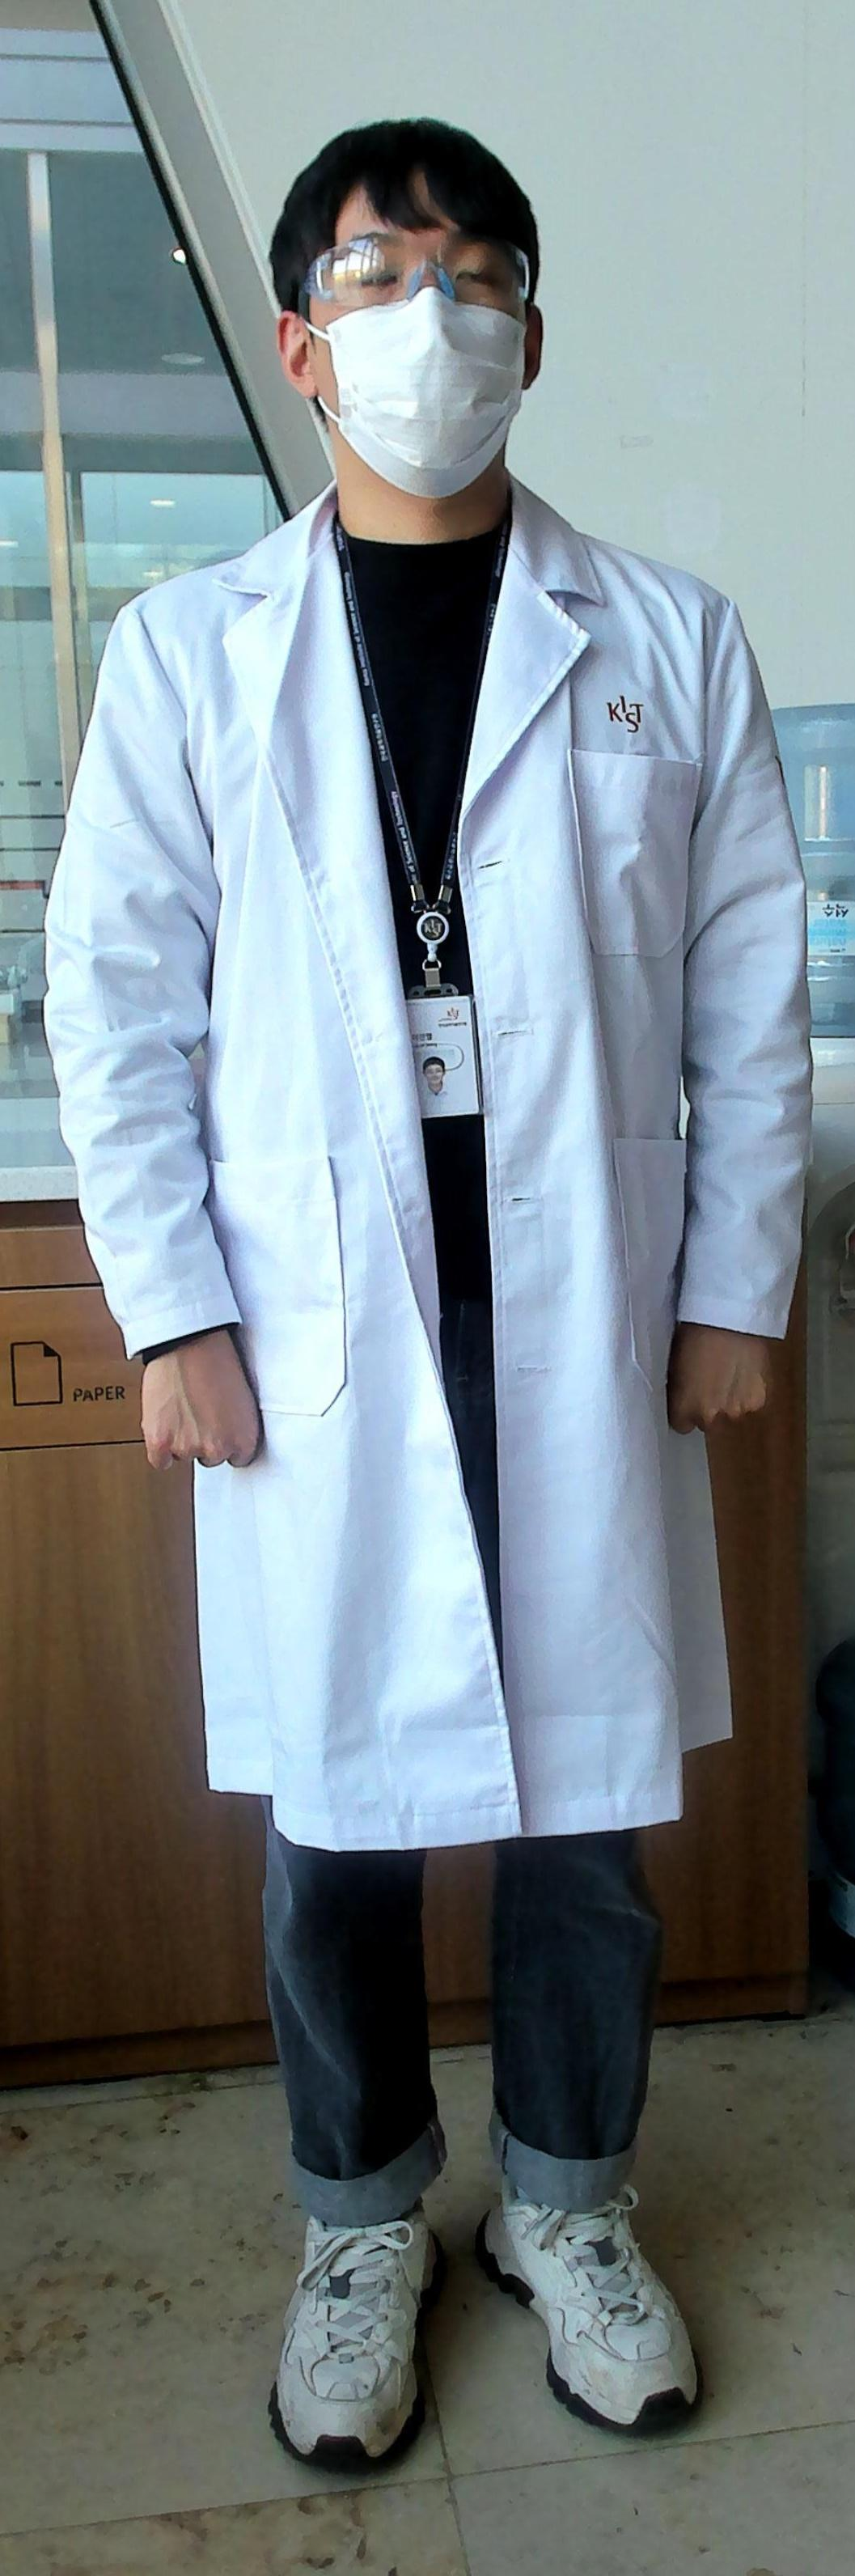lab_coat: (220, 559, 696, 1829)
